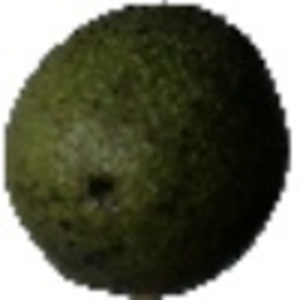abacate: (2, 2, 292, 295)
